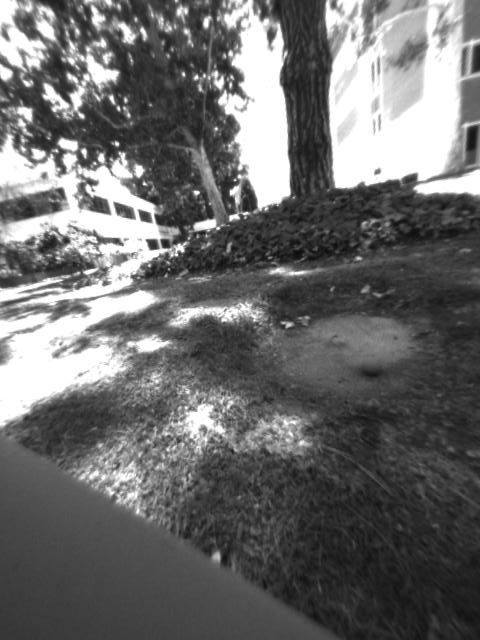dogtoy: (350, 346, 387, 383)
